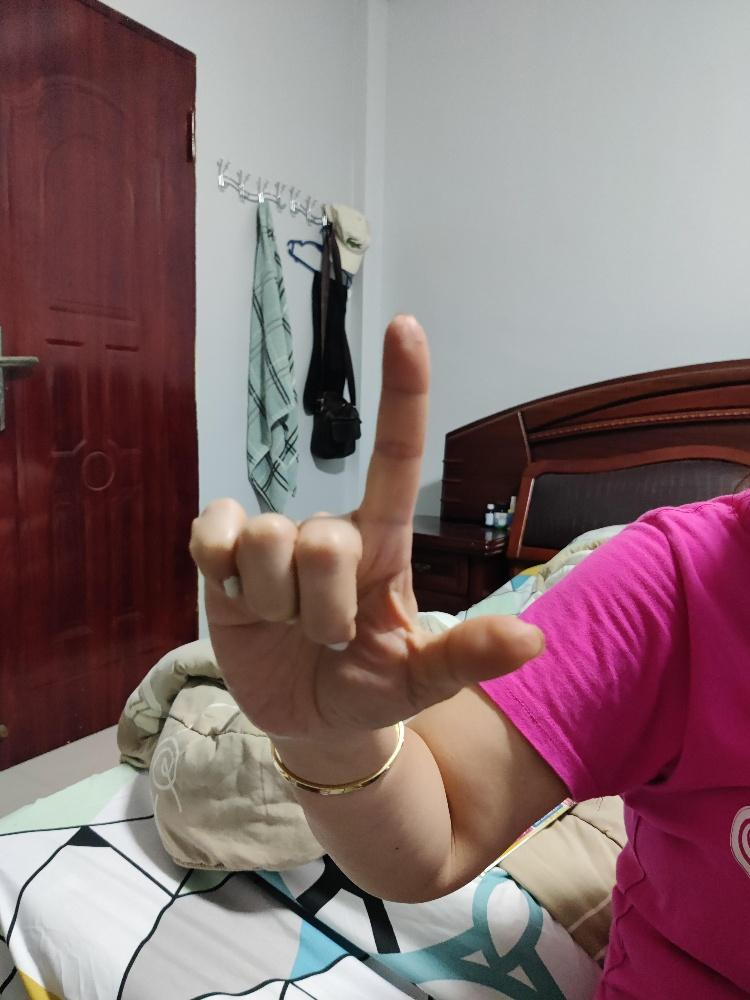l: (186, 310, 548, 740)
